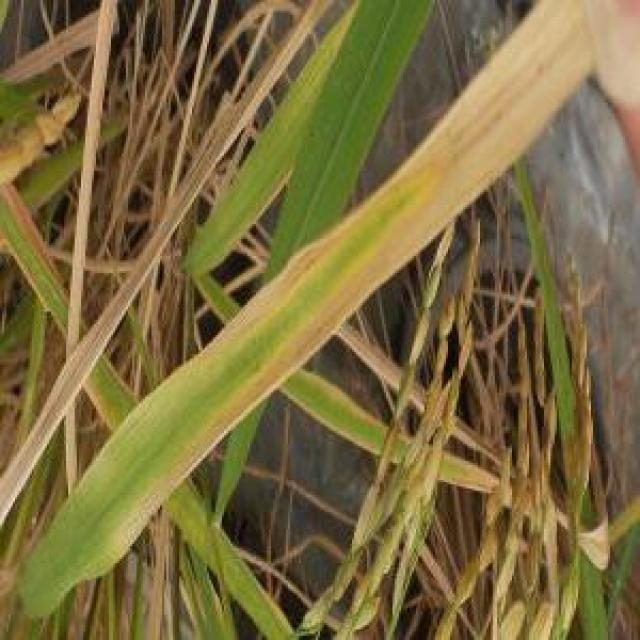Bacterial_Blight: (95, 4, 640, 438), (398, 0, 612, 253), (172, 260, 412, 433), (186, 175, 382, 384)
